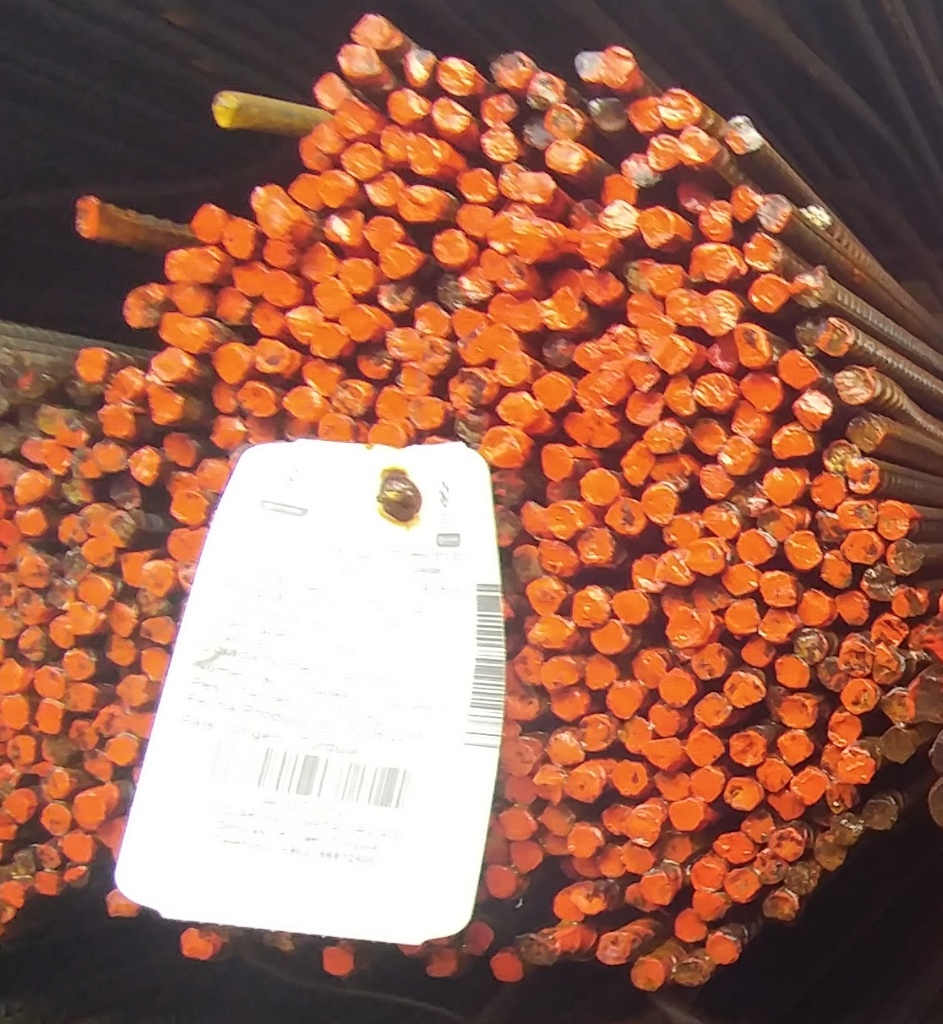dipstick: (161, 314, 211, 350), (350, 15, 401, 48), (482, 429, 524, 468), (660, 87, 699, 128), (740, 372, 781, 411), (793, 389, 832, 429), (399, 186, 441, 223), (652, 337, 695, 373), (336, 43, 380, 78), (123, 288, 161, 328), (539, 540, 579, 578), (908, 677, 941, 723), (337, 97, 374, 138), (542, 291, 581, 329), (639, 205, 675, 246), (778, 350, 819, 386), (388, 89, 428, 125), (736, 322, 768, 367), (750, 276, 790, 312), (529, 616, 572, 649), (579, 223, 611, 267), (526, 578, 563, 616), (695, 374, 733, 411), (491, 51, 530, 87), (105, 367, 145, 402), (549, 687, 589, 722), (725, 115, 762, 152), (660, 670, 697, 707), (578, 527, 616, 563), (847, 414, 883, 452), (582, 270, 622, 304), (150, 382, 182, 424), (664, 375, 696, 417), (326, 210, 362, 247), (298, 243, 335, 279), (728, 671, 765, 707), (581, 468, 618, 504), (785, 531, 820, 569), (603, 47, 635, 88), (700, 201, 732, 242), (437, 57, 472, 94), (590, 98, 627, 133), (459, 168, 496, 203), (606, 499, 643, 534), (700, 297, 735, 334), (743, 232, 778, 269), (365, 217, 403, 251), (480, 93, 519, 126), (611, 591, 650, 624), (498, 392, 537, 425), (621, 154, 661, 186), (643, 485, 675, 525), (645, 421, 686, 452), (633, 652, 668, 688), (687, 731, 723, 766), (760, 572, 796, 607), (622, 444, 652, 486), (878, 728, 914, 763), (546, 140, 583, 174), (433, 98, 470, 132), (344, 144, 381, 178), (212, 346, 246, 383), (450, 371, 484, 408), (15, 470, 52, 504), (688, 543, 725, 577), (765, 469, 799, 506), (726, 598, 759, 636), (835, 370, 873, 403), (632, 555, 664, 594), (758, 193, 790, 232), (408, 135, 439, 175), (287, 307, 322, 342), (730, 731, 765, 766), (533, 374, 568, 409), (834, 591, 869, 626), (529, 72, 563, 108), (254, 338, 290, 372), (695, 693, 731, 727), (779, 729, 813, 765), (839, 749, 875, 783), (839, 641, 873, 677), (691, 418, 725, 454), (289, 173, 322, 210), (479, 129, 517, 161), (192, 204, 224, 242), (724, 778, 762, 810), (541, 444, 573, 482), (315, 71, 346, 110), (498, 810, 537, 841), (602, 202, 637, 236), (500, 743, 535, 777), (725, 869, 760, 903), (760, 608, 794, 643), (828, 714, 863, 748), (841, 679, 876, 713), (811, 474, 845, 509), (546, 105, 582, 138), (321, 171, 354, 207), (239, 384, 275, 417), (210, 416, 246, 449), (628, 810, 661, 846), (626, 392, 662, 425), (843, 531, 879, 564), (732, 401, 765, 437), (340, 306, 377, 338), (703, 507, 740, 539), (823, 440, 860, 472), (513, 223, 544, 261), (669, 609, 700, 647), (540, 659, 579, 689), (224, 218, 253, 258), (315, 280, 349, 314), (304, 362, 337, 397), (590, 621, 625, 654), (619, 719, 652, 754), (692, 767, 725, 802), (693, 577, 728, 610), (495, 353, 530, 386), (888, 541, 923, 574), (648, 134, 680, 170), (678, 181, 714, 213), (847, 459, 879, 495), (652, 462, 693, 490), (772, 431, 813, 459), (693, 891, 730, 922), (667, 289, 698, 326), (171, 285, 209, 315), (546, 735, 584, 765), (715, 833, 754, 862), (251, 302, 284, 336), (572, 594, 606, 627), (693, 644, 726, 678), (861, 566, 894, 600), (700, 466, 733, 500), (356, 346, 391, 378), (612, 762, 647, 794), (724, 564, 759, 596), (259, 202, 290, 238), (129, 448, 160, 484), (799, 589, 830, 625), (403, 50, 433, 87), (759, 510, 796, 540), (819, 319, 849, 356), (597, 932, 630, 965), (381, 126, 413, 160), (341, 258, 373, 292), (415, 304, 449, 336), (163, 432, 195, 466), (461, 922, 493, 956), (777, 655, 809, 689), (738, 530, 770, 564), (455, 409, 489, 441), (680, 128, 711, 163), (581, 716, 612, 751), (311, 326, 347, 356), (171, 493, 207, 523), (522, 500, 549, 540), (878, 504, 908, 540), (722, 438, 752, 474), (644, 739, 681, 768), (822, 551, 851, 588), (793, 272, 821, 310), (434, 230, 466, 263), (387, 327, 419, 360), (100, 405, 132, 438), (180, 928, 213, 960), (540, 802, 573, 834), (759, 759, 791, 792), (793, 770, 825, 803), (298, 137, 329, 171), (419, 337, 450, 371), (395, 365, 429, 396), (631, 960, 665, 991), (815, 834, 846, 868), (629, 96, 659, 131), (565, 771, 600, 801), (708, 335, 738, 370), (283, 388, 319, 417), (105, 510, 134, 546), (663, 520, 699, 549), (731, 184, 757, 224), (570, 887, 607, 915), (513, 545, 541, 582), (871, 617, 908, 645), (498, 162, 525, 200), (367, 173, 399, 205), (493, 472, 525, 504), (603, 325, 635, 357), (186, 248, 217, 281), (265, 272, 296, 305), (217, 288, 248, 321), (198, 459, 229, 492), (5, 790, 36, 823), (41, 803, 72, 836), (104, 733, 137, 764), (772, 829, 803, 862), (461, 268, 491, 302), (483, 326, 517, 356), (736, 482, 766, 516), (436, 274, 465, 309), (153, 350, 188, 379), (486, 864, 515, 899), (655, 771, 690, 800), (638, 315, 673, 344), (366, 422, 405, 448), (488, 216, 516, 252), (143, 560, 171, 596), (568, 828, 604, 856), (550, 505, 578, 541), (705, 247, 733, 283), (381, 246, 412, 278), (57, 416, 88, 448), (33, 667, 65, 698), (61, 832, 93, 863), (756, 852, 787, 884), (542, 336, 574, 367), (521, 173, 554, 203), (73, 795, 103, 828), (670, 801, 704, 830), (742, 639, 776, 668), (796, 628, 825, 662), (379, 283, 414, 311), (141, 647, 169, 682), (770, 792, 805, 820), (76, 196, 98, 240), (839, 503, 876, 529), (110, 477, 141, 508), (512, 842, 543, 873), (610, 688, 641, 719), (628, 360, 659, 391), (233, 265, 265, 295), (105, 635, 135, 667), (676, 910, 706, 942), (650, 706, 680, 738), (780, 697, 810, 729), (863, 799, 895, 829), (586, 656, 615, 689), (601, 372, 630, 405), (601, 175, 635, 203), (650, 265, 684, 293), (817, 658, 845, 692), (319, 415, 354, 442), (19, 626, 46, 661), (213, 91, 237, 130), (535, 766, 561, 802), (516, 649, 542, 685), (628, 295, 664, 321), (313, 121, 343, 152), (378, 390, 409, 420), (18, 556, 48, 587), (624, 844, 654, 875), (660, 833, 691, 863), (828, 782, 859, 812), (459, 206, 491, 235), (410, 398, 442, 427), (83, 539, 115, 568), (659, 554, 691, 583), (252, 184, 289, 209), (77, 349, 105, 382), (1, 696, 29, 729), (490, 954, 523, 982), (879, 690, 907, 723), (523, 937, 557, 964), (571, 196, 601, 226), (41, 769, 71, 799), (691, 862, 721, 892), (499, 261, 528, 292), (335, 383, 364, 414), (18, 367, 47, 398), (426, 948, 457, 977), (873, 645, 896, 684), (509, 301, 541, 329), (141, 616, 173, 644), (592, 415, 620, 447), (452, 311, 485, 338), (36, 702, 63, 735), (892, 591, 925, 618), (459, 330, 485, 364), (18, 590, 44, 624), (627, 260, 653, 294), (79, 577, 109, 606), (323, 946, 353, 975), (488, 294, 516, 325), (93, 444, 124, 472), (62, 652, 93, 680), (117, 676, 145, 707), (505, 776, 536, 804), (553, 894, 584, 922), (745, 811, 773, 842), (674, 961, 710, 985), (575, 343, 607, 370), (563, 412, 590, 444), (108, 604, 134, 637), (482, 250, 511, 279), (58, 515, 87, 544), (833, 814, 862, 843), (7, 735, 35, 765), (107, 890, 137, 918), (641, 876, 671, 904), (495, 506, 516, 546), (707, 937, 738, 964), (61, 478, 93, 504), (599, 845, 625, 877), (66, 382, 102, 405), (65, 683, 93, 712), (575, 52, 602, 82), (96, 710, 126, 737), (84, 752, 111, 782), (602, 805, 629, 835), (245, 418, 276, 444), (81, 505, 107, 536), (43, 734, 69, 765), (662, 585, 693, 611), (524, 114, 547, 149), (43, 443, 68, 475), (284, 418, 317, 442), (505, 696, 538, 720), (796, 318, 818, 354), (264, 239, 292, 267), (71, 449, 98, 478), (120, 554, 143, 588), (69, 604, 95, 634), (625, 886, 655, 912), (579, 373, 600, 410), (15, 510, 46, 535), (787, 868, 815, 895), (62, 552, 88, 581), (764, 893, 793, 919), (49, 618, 73, 649), (550, 269, 582, 292), (99, 818, 125, 846), (816, 510, 840, 540), (1, 660, 23, 692), (70, 721, 96, 748), (213, 383, 237, 412), (139, 592, 169, 615), (546, 482, 580, 502), (165, 249, 186, 281), (16, 404, 37, 435), (168, 528, 189, 559), (37, 405, 58, 435), (49, 582, 71, 610), (166, 471, 196, 491), (37, 844, 60, 870), (264, 932, 293, 952), (189, 528, 206, 561), (823, 744, 838, 781), (35, 872, 58, 896), (64, 865, 89, 887), (574, 857, 600, 878), (1, 573, 17, 606), (1, 882, 23, 906), (21, 438, 41, 464), (1, 517, 19, 544), (543, 836, 568, 855), (1, 427, 17, 456), (13, 853, 34, 875), (690, 245, 702, 282), (1, 765, 18, 790), (179, 564, 194, 590), (1, 615, 14, 640)
